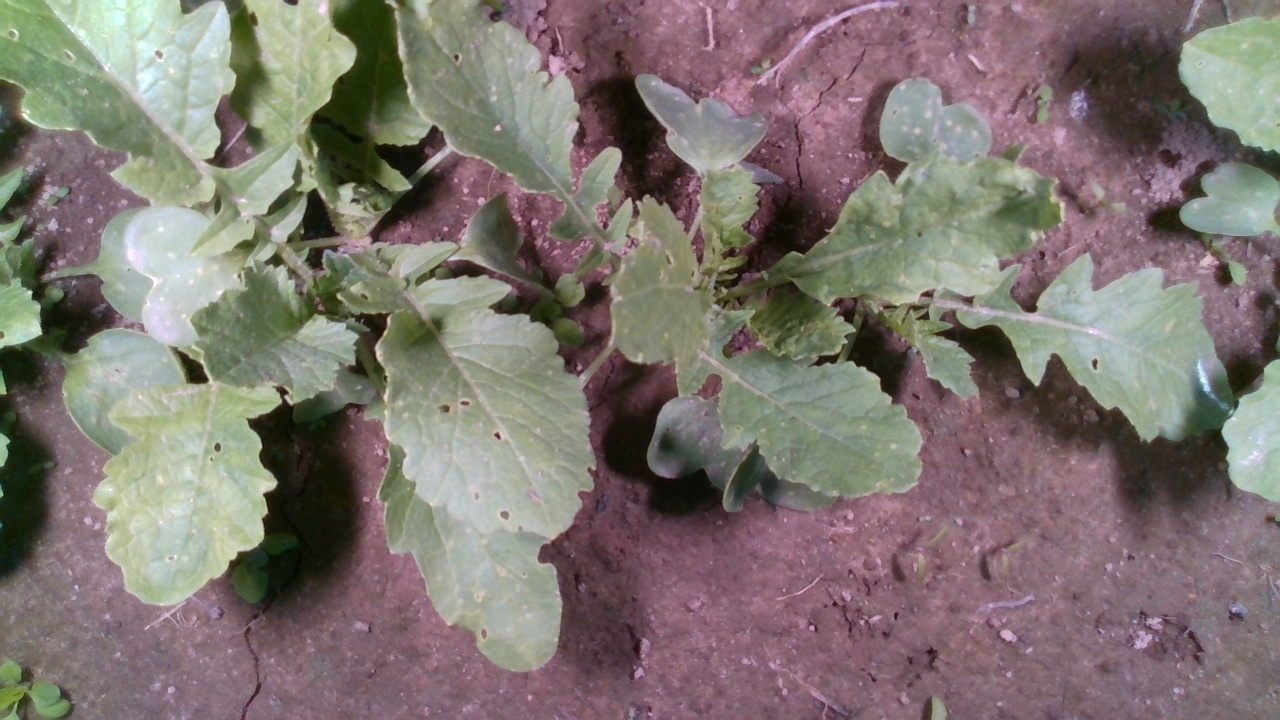weed: (1087, 176, 1141, 217), (912, 521, 948, 581), (994, 535, 1035, 580)
